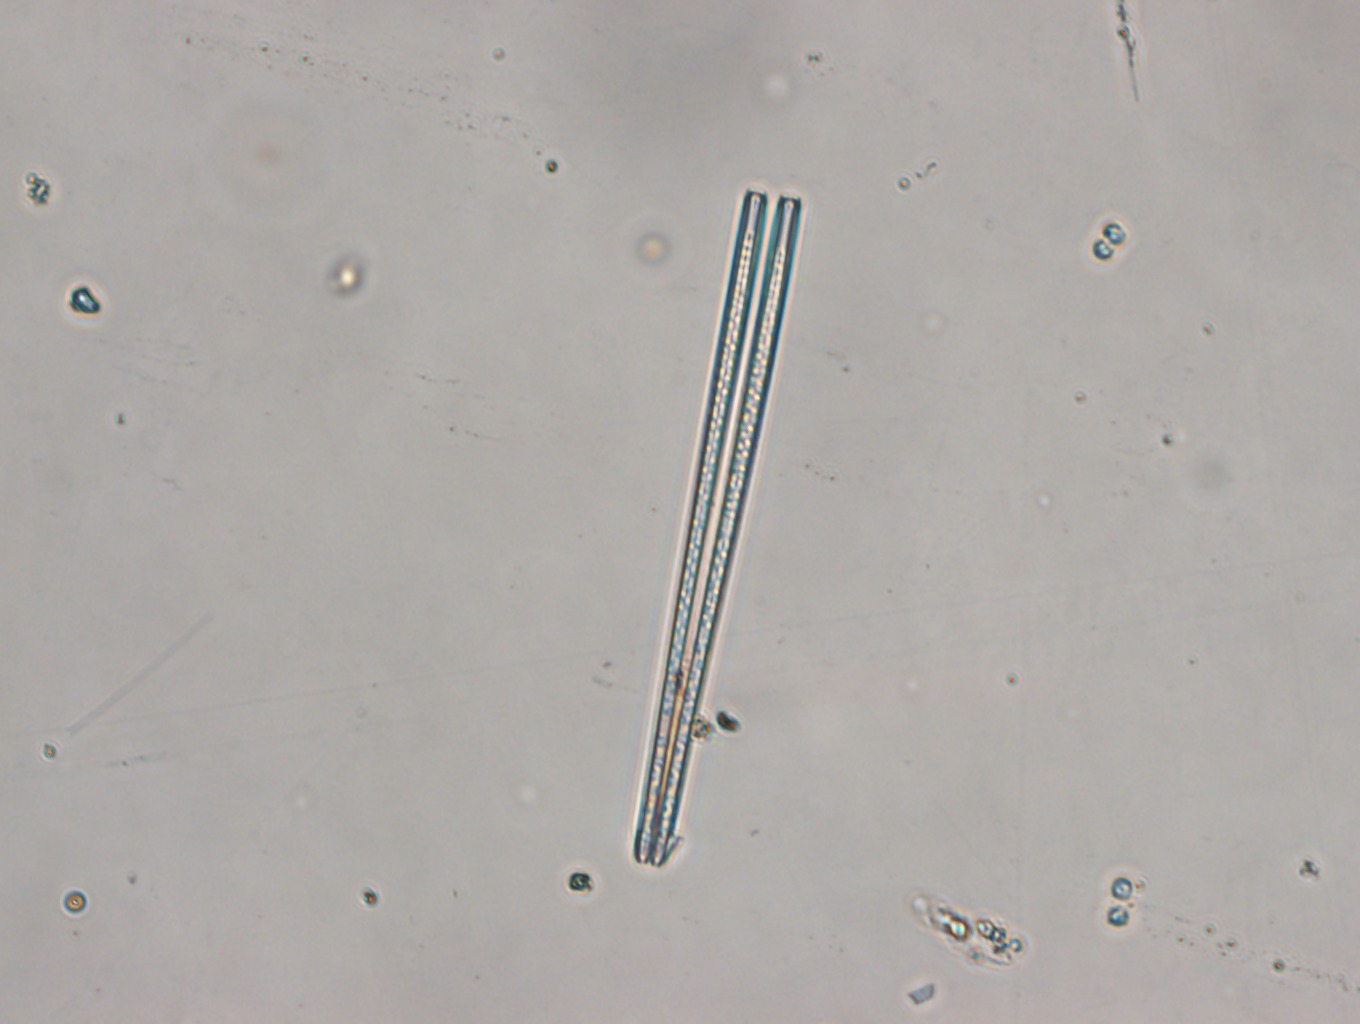thalassionema frauenfeldii: (632, 186, 803, 874)
